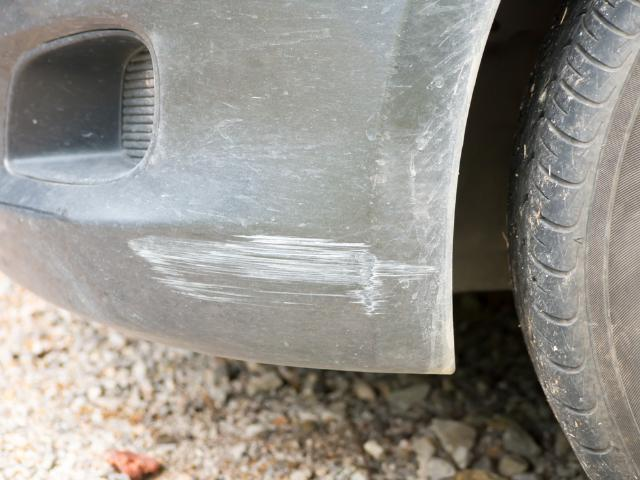scratch: (123, 231, 441, 315)
